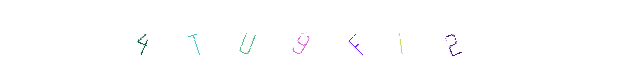2: (413, 0, 493, 80)
4: (103, 0, 183, 80)
9: (288, 0, 368, 80)
F: (315, 0, 395, 80)
I: (360, 0, 440, 80)
T: (176, 0, 256, 80)
U: (272, 0, 352, 80)
